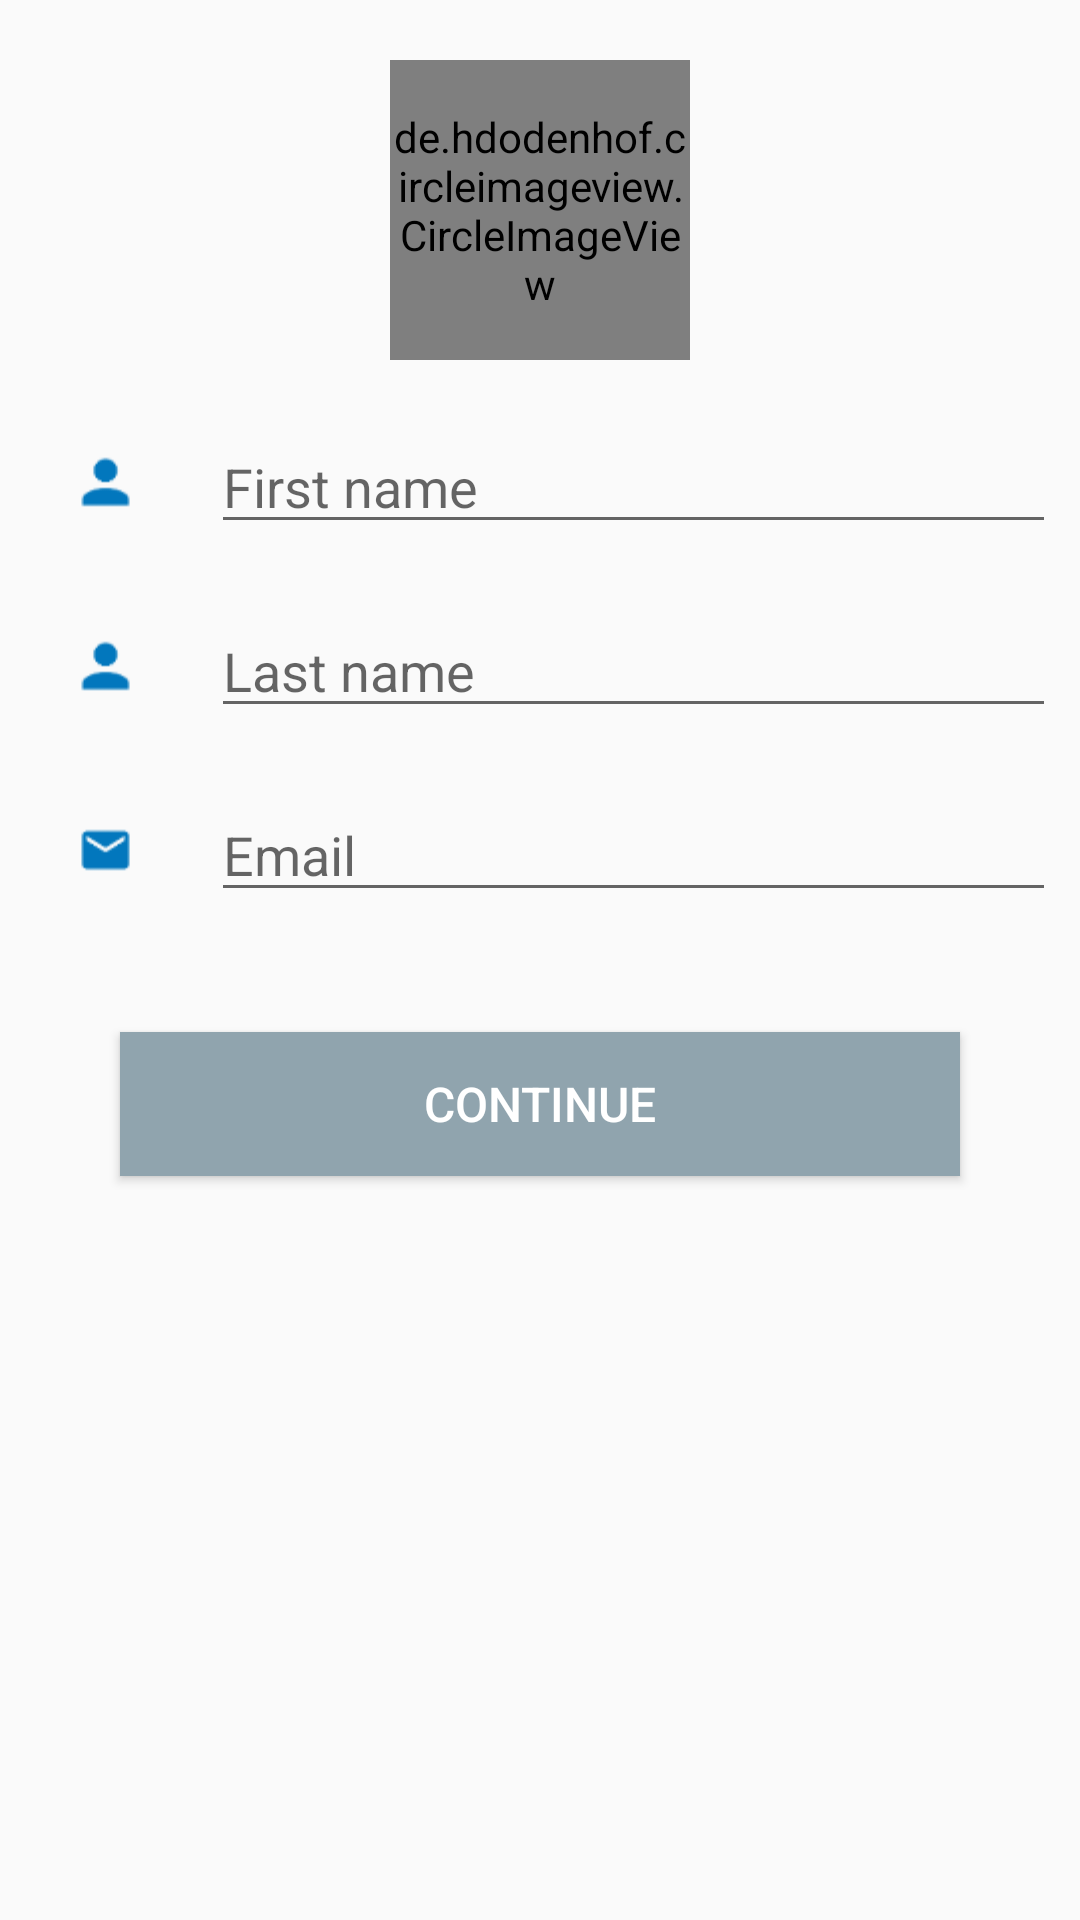

Where to tap for icons on this 1080w x 1920h app screen, as [x,y]:
person profile: [105,482], [105,666]
